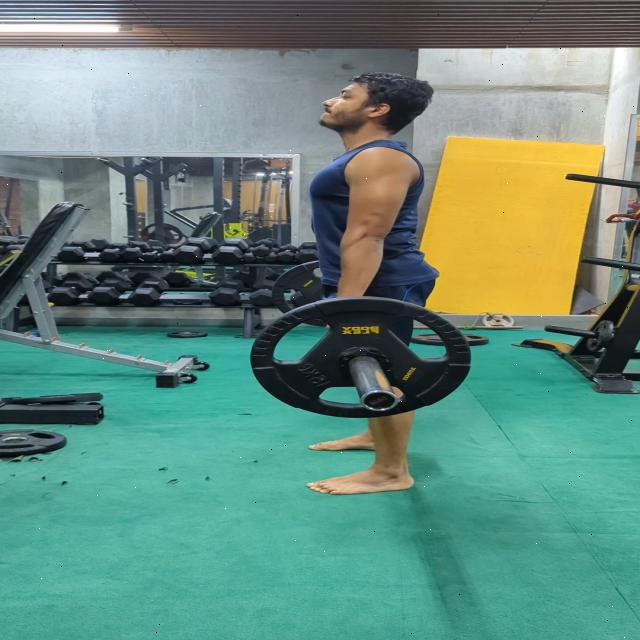Normal_Deadlifts: (305, 74, 445, 498)
